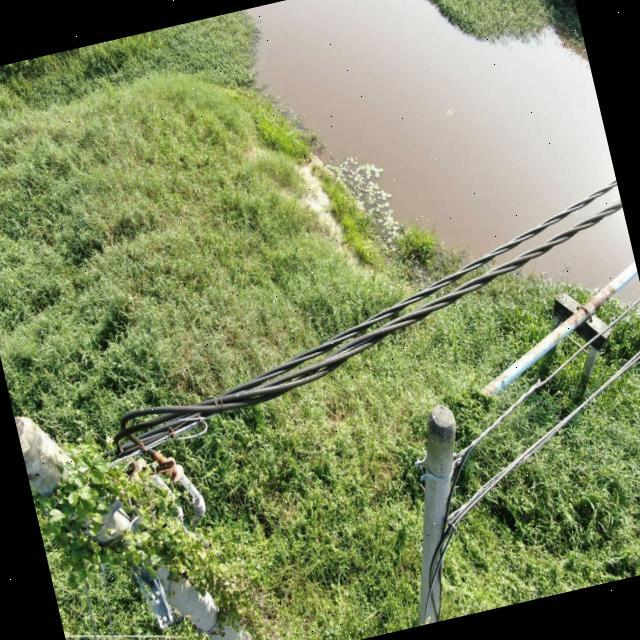critical vegetation: (14, 365, 291, 640)
